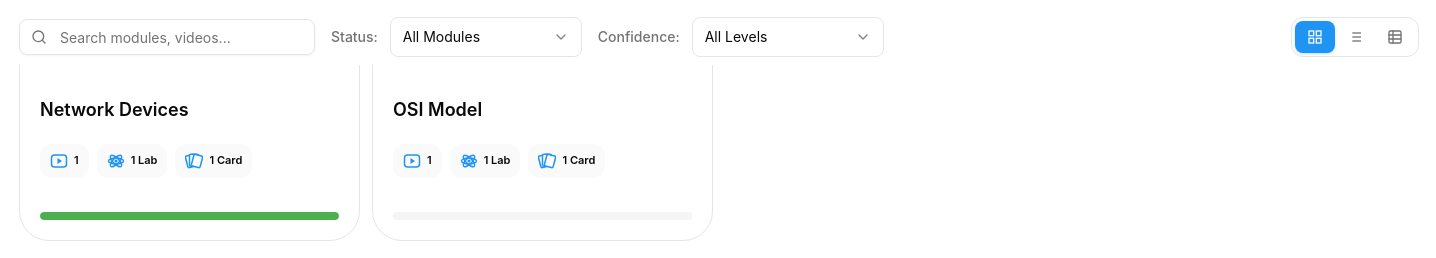
Test: ModuleList › should show no results message when no modules match
This screenshot has width=1436, height=258.
Type "XYZNOTFOUND" into the search field with placeholder "Search modules, videos...". click: (167, 37)
box: [19, 19, 315, 55]
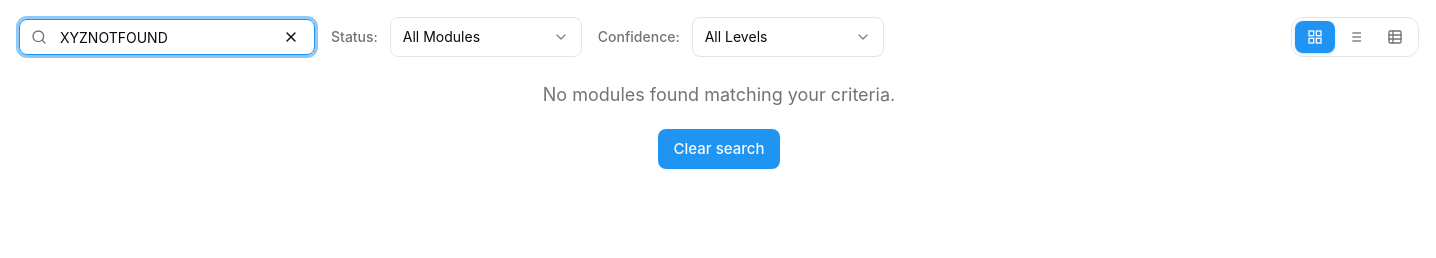
Now the text "No modules found matching your criteria." is shown, box [543, 84, 895, 105]
